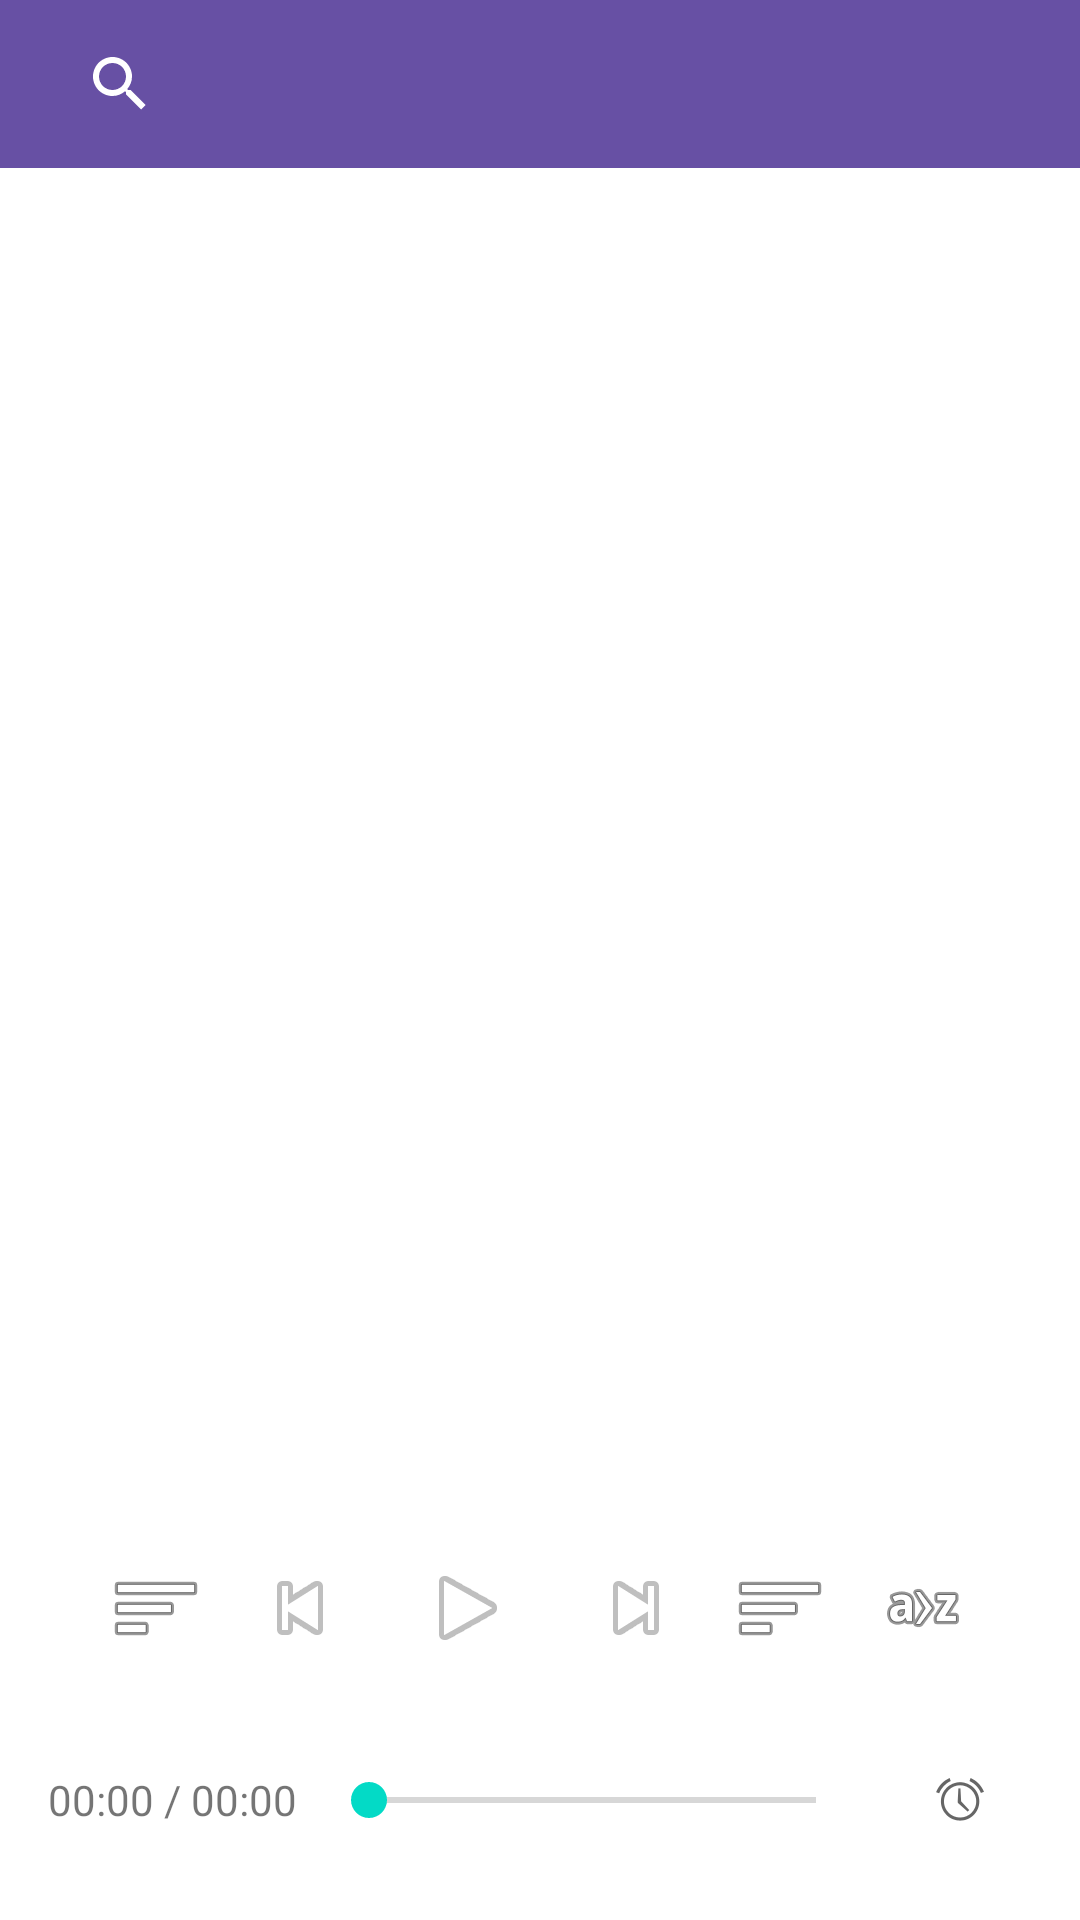

Where icons sit on this 1080 x 1920 app screen, as {"left": x1, "top": y1, "right": x2, "bottom": y2}:
Next: {"left": 613, "top": 1581, "right": 659, "bottom": 1635}
Play/Pause: {"left": 439, "top": 1576, "right": 497, "bottom": 1640}
Previous: {"left": 277, "top": 1581, "right": 323, "bottom": 1635}
Sleep Timer: {"left": 936, "top": 1778, "right": 984, "bottom": 1821}
Sort: {"left": 887, "top": 1589, "right": 959, "bottom": 1627}
